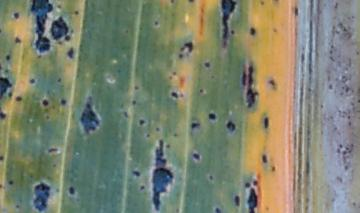tarspot: (153, 140, 173, 213), (29, 1, 53, 54), (221, 1, 237, 48), (80, 97, 99, 134), (32, 182, 50, 213), (247, 64, 258, 108), (51, 17, 68, 41), (247, 188, 258, 213), (1, 78, 11, 99), (191, 150, 201, 161), (225, 121, 236, 131), (241, 70, 247, 87), (184, 41, 193, 52), (268, 77, 276, 89), (234, 195, 241, 207), (68, 46, 74, 58), (48, 147, 60, 153), (191, 122, 200, 130), (263, 116, 269, 128), (68, 186, 75, 196), (261, 153, 267, 164), (170, 91, 178, 99), (28, 77, 36, 84), (208, 112, 215, 120), (1, 111, 7, 120), (293, 7, 299, 16), (132, 170, 141, 176), (42, 99, 49, 106), (204, 62, 211, 69), (14, 37, 22, 43), (250, 27, 256, 35), (14, 13, 20, 20), (5, 54, 11, 61), (199, 87, 205, 94), (252, 179, 258, 186), (215, 206, 221, 213), (172, 132, 179, 138), (124, 111, 129, 119), (15, 96, 22, 101), (155, 126, 160, 133), (66, 35, 71, 41), (56, 78, 62, 83), (132, 99, 137, 105), (154, 20, 159, 26), (179, 53, 184, 59), (172, 71, 178, 76), (69, 29, 75, 34), (56, 3, 62, 8), (145, 133, 151, 138), (246, 182, 251, 188), (209, 175, 214, 181), (140, 185, 146, 190), (166, 143, 171, 149), (74, 10, 79, 15), (139, 120, 144, 125), (180, 46, 185, 51), (9, 180, 14, 185), (16, 204, 21, 209), (134, 86, 140, 90), (180, 92, 184, 98), (231, 29, 235, 35), (8, 92, 12, 97), (61, 100, 66, 104), (46, 115, 50, 120), (272, 166, 276, 171), (260, 1, 265, 5), (1, 155, 4, 161), (169, 1, 175, 4), (187, 1, 194, 3), (1, 28, 3, 34), (1, 184, 3, 189)
